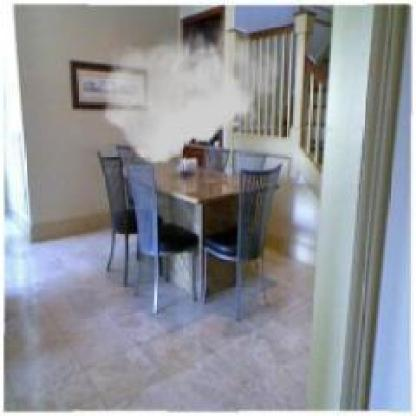Smoke: (101, 20, 279, 164)
